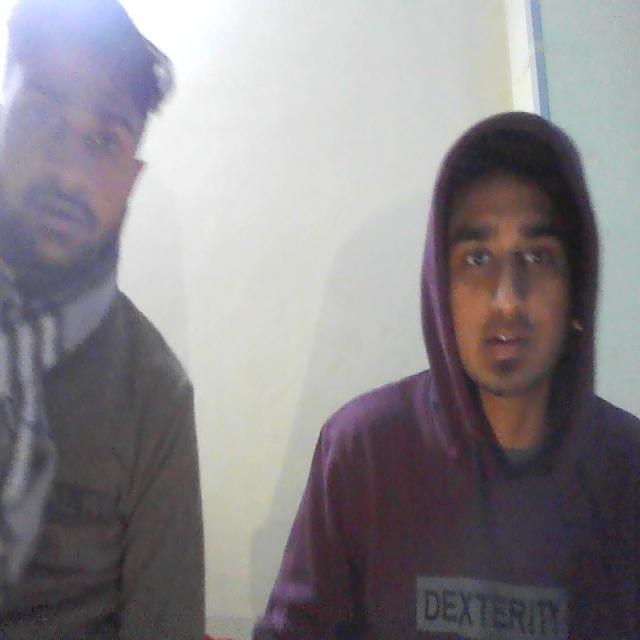real: (426, 105, 595, 424), (0, 0, 168, 317)
